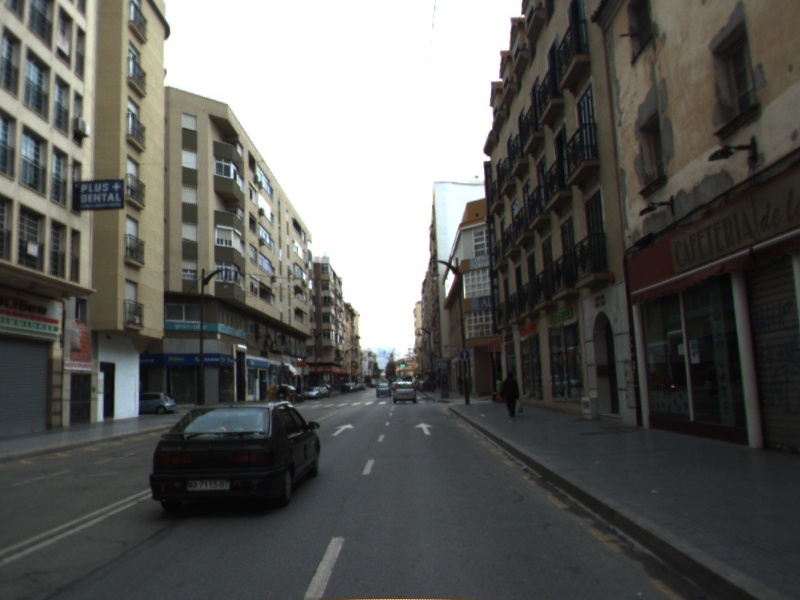STRAIGHT: (329, 421, 355, 438), (413, 421, 435, 437)
